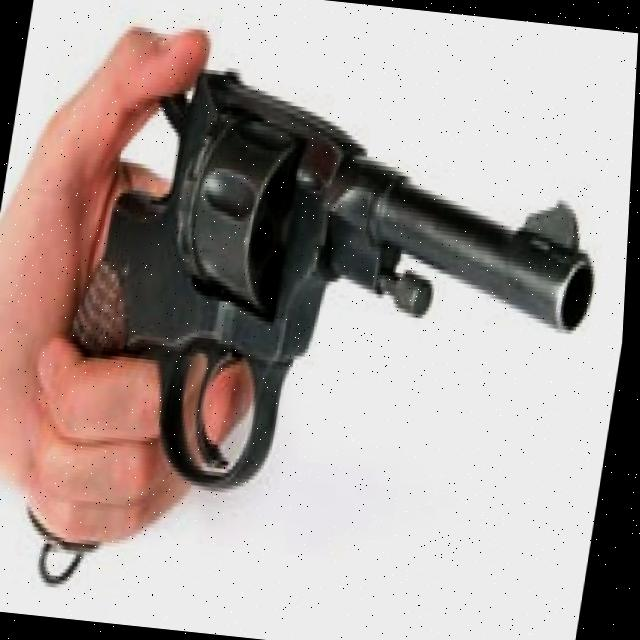pistol: (49, 51, 626, 528)
